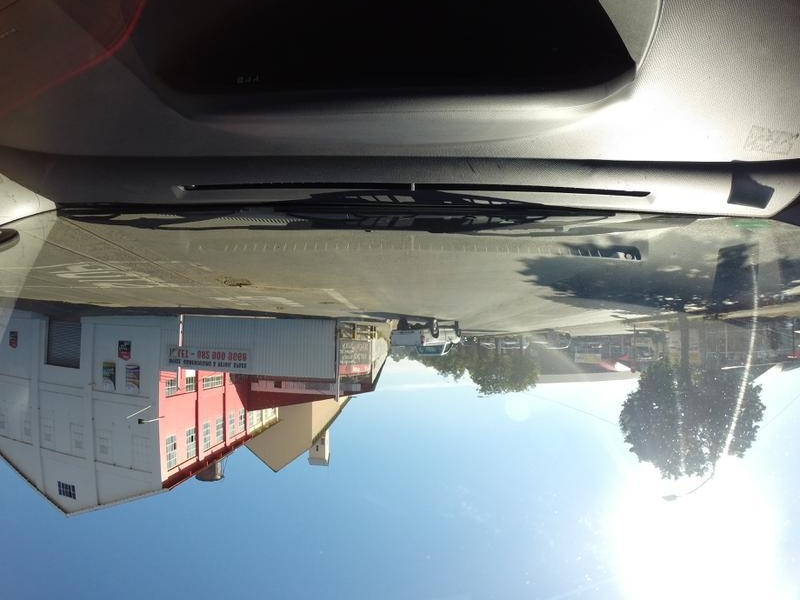pothole: (222, 277, 258, 288), (266, 286, 297, 293), (275, 304, 289, 314), (320, 300, 346, 305)
